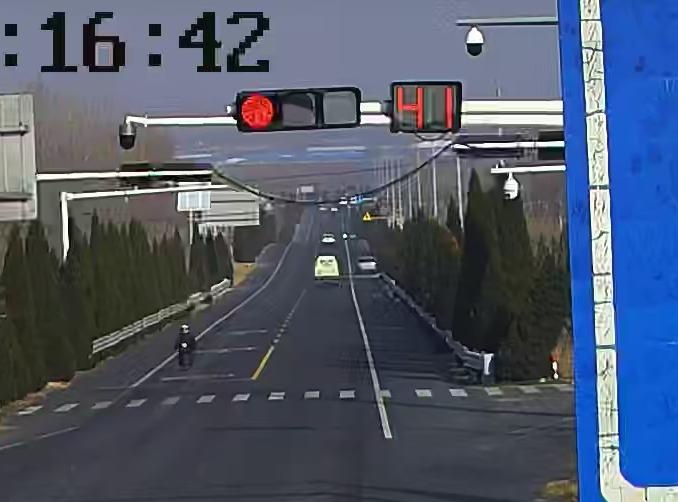red: (240, 92, 276, 129)
redtime: (394, 83, 457, 129)
